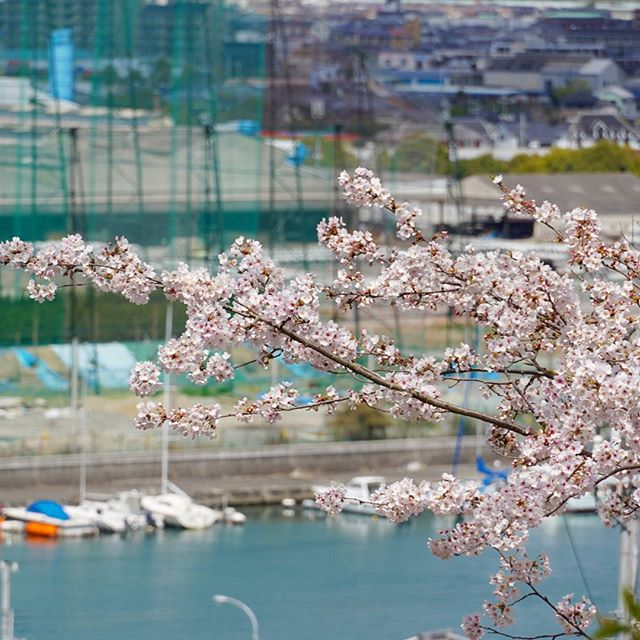flowers: (18, 195, 640, 545)
river: (19, 519, 601, 640)
